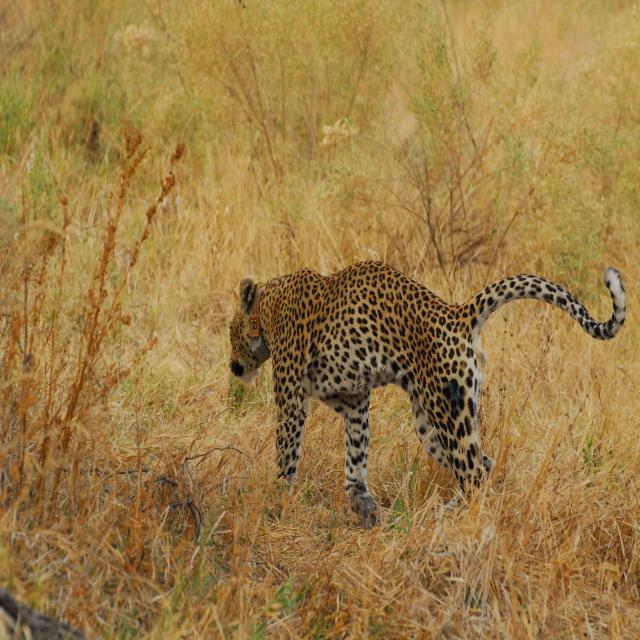Leopard: (216, 250, 618, 524)
